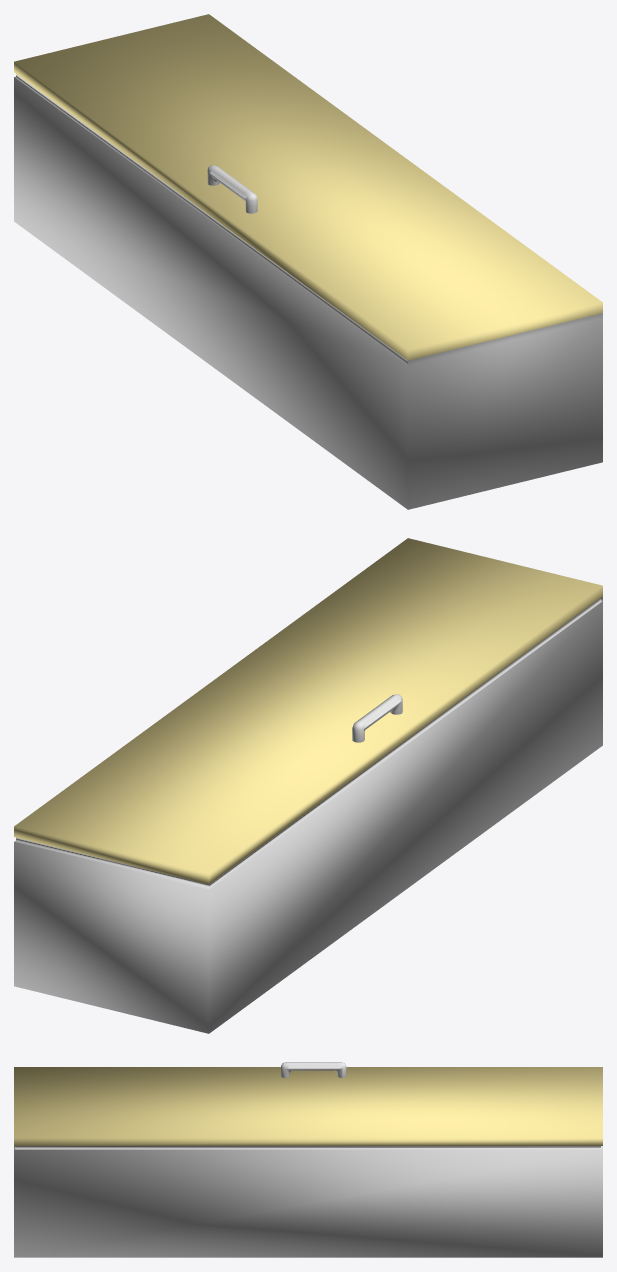
The picture shows the model from 3 angles, top to bottom: view 1: azimuth 30°, elevation 25°; view 2: azimuth 150°, elevation 25°; view 3: azimuth 270°, elevation 25°; orthographic projection. The views are drawn at different scales.
Visible parts, largest first — view 1: Cube; view 2: Cube; view 3: Cube.
Boxes of the visible parts, x1,y1,x2,y2 form: Cube: (14,14,602,509); Cube: (14,538,602,1033); Cube: (14,1062,602,1257).
Size of the model in its own units: 60 by 52.19 by 210.
